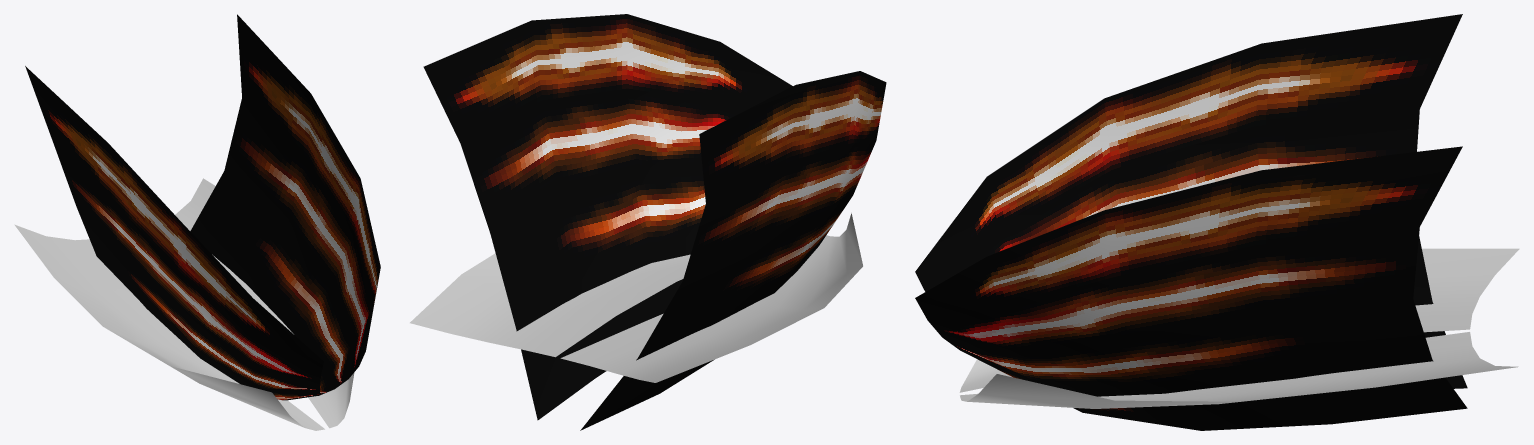
File: public_yangchen_effect.FBX
3 views of the same model, side by side, from view 1: azimuth 30°, elevation 25°; view 2: azimuth 150°, elevation 25°; view 3: azimuth 270°, elevation 25° (orthographic). The views are drawn at different scales.
Parts seen in each view (by area): view 1: 1_1, 1_2; view 2: 1_1, 1_2; view 3: 1_1, 1_2.
Boxes of the visible parts, x1=… form: 1_1: x1=25, y1=14, x2=380, y2=400; 1_2: x1=14, y1=178, x2=354, y2=430; 1_1: x1=423, y1=14, x2=886, y2=430; 1_2: x1=410, y1=213, x2=862, y2=382; 1_1: x1=915, y1=14, x2=1467, y2=430; 1_2: x1=959, y1=248, x2=1519, y2=408.
Bounding box in the file's own units: 4 × 4.34 × 7.1.
